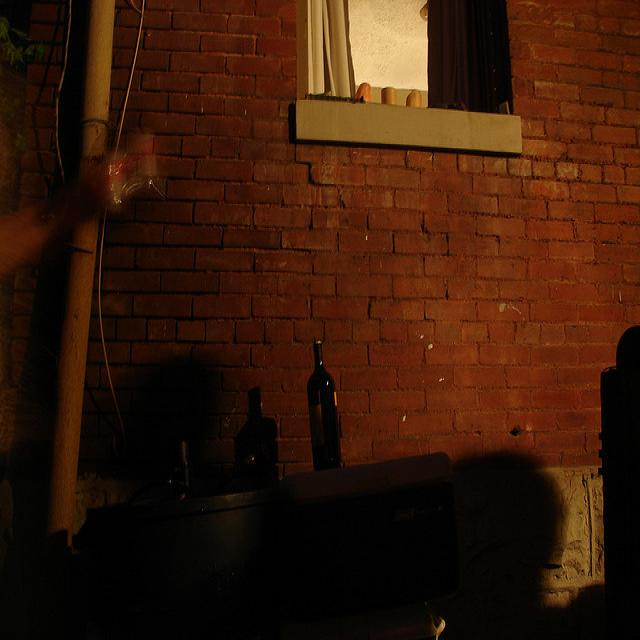Bottle: (298, 322, 352, 478), (242, 369, 279, 516), (148, 417, 194, 514)
